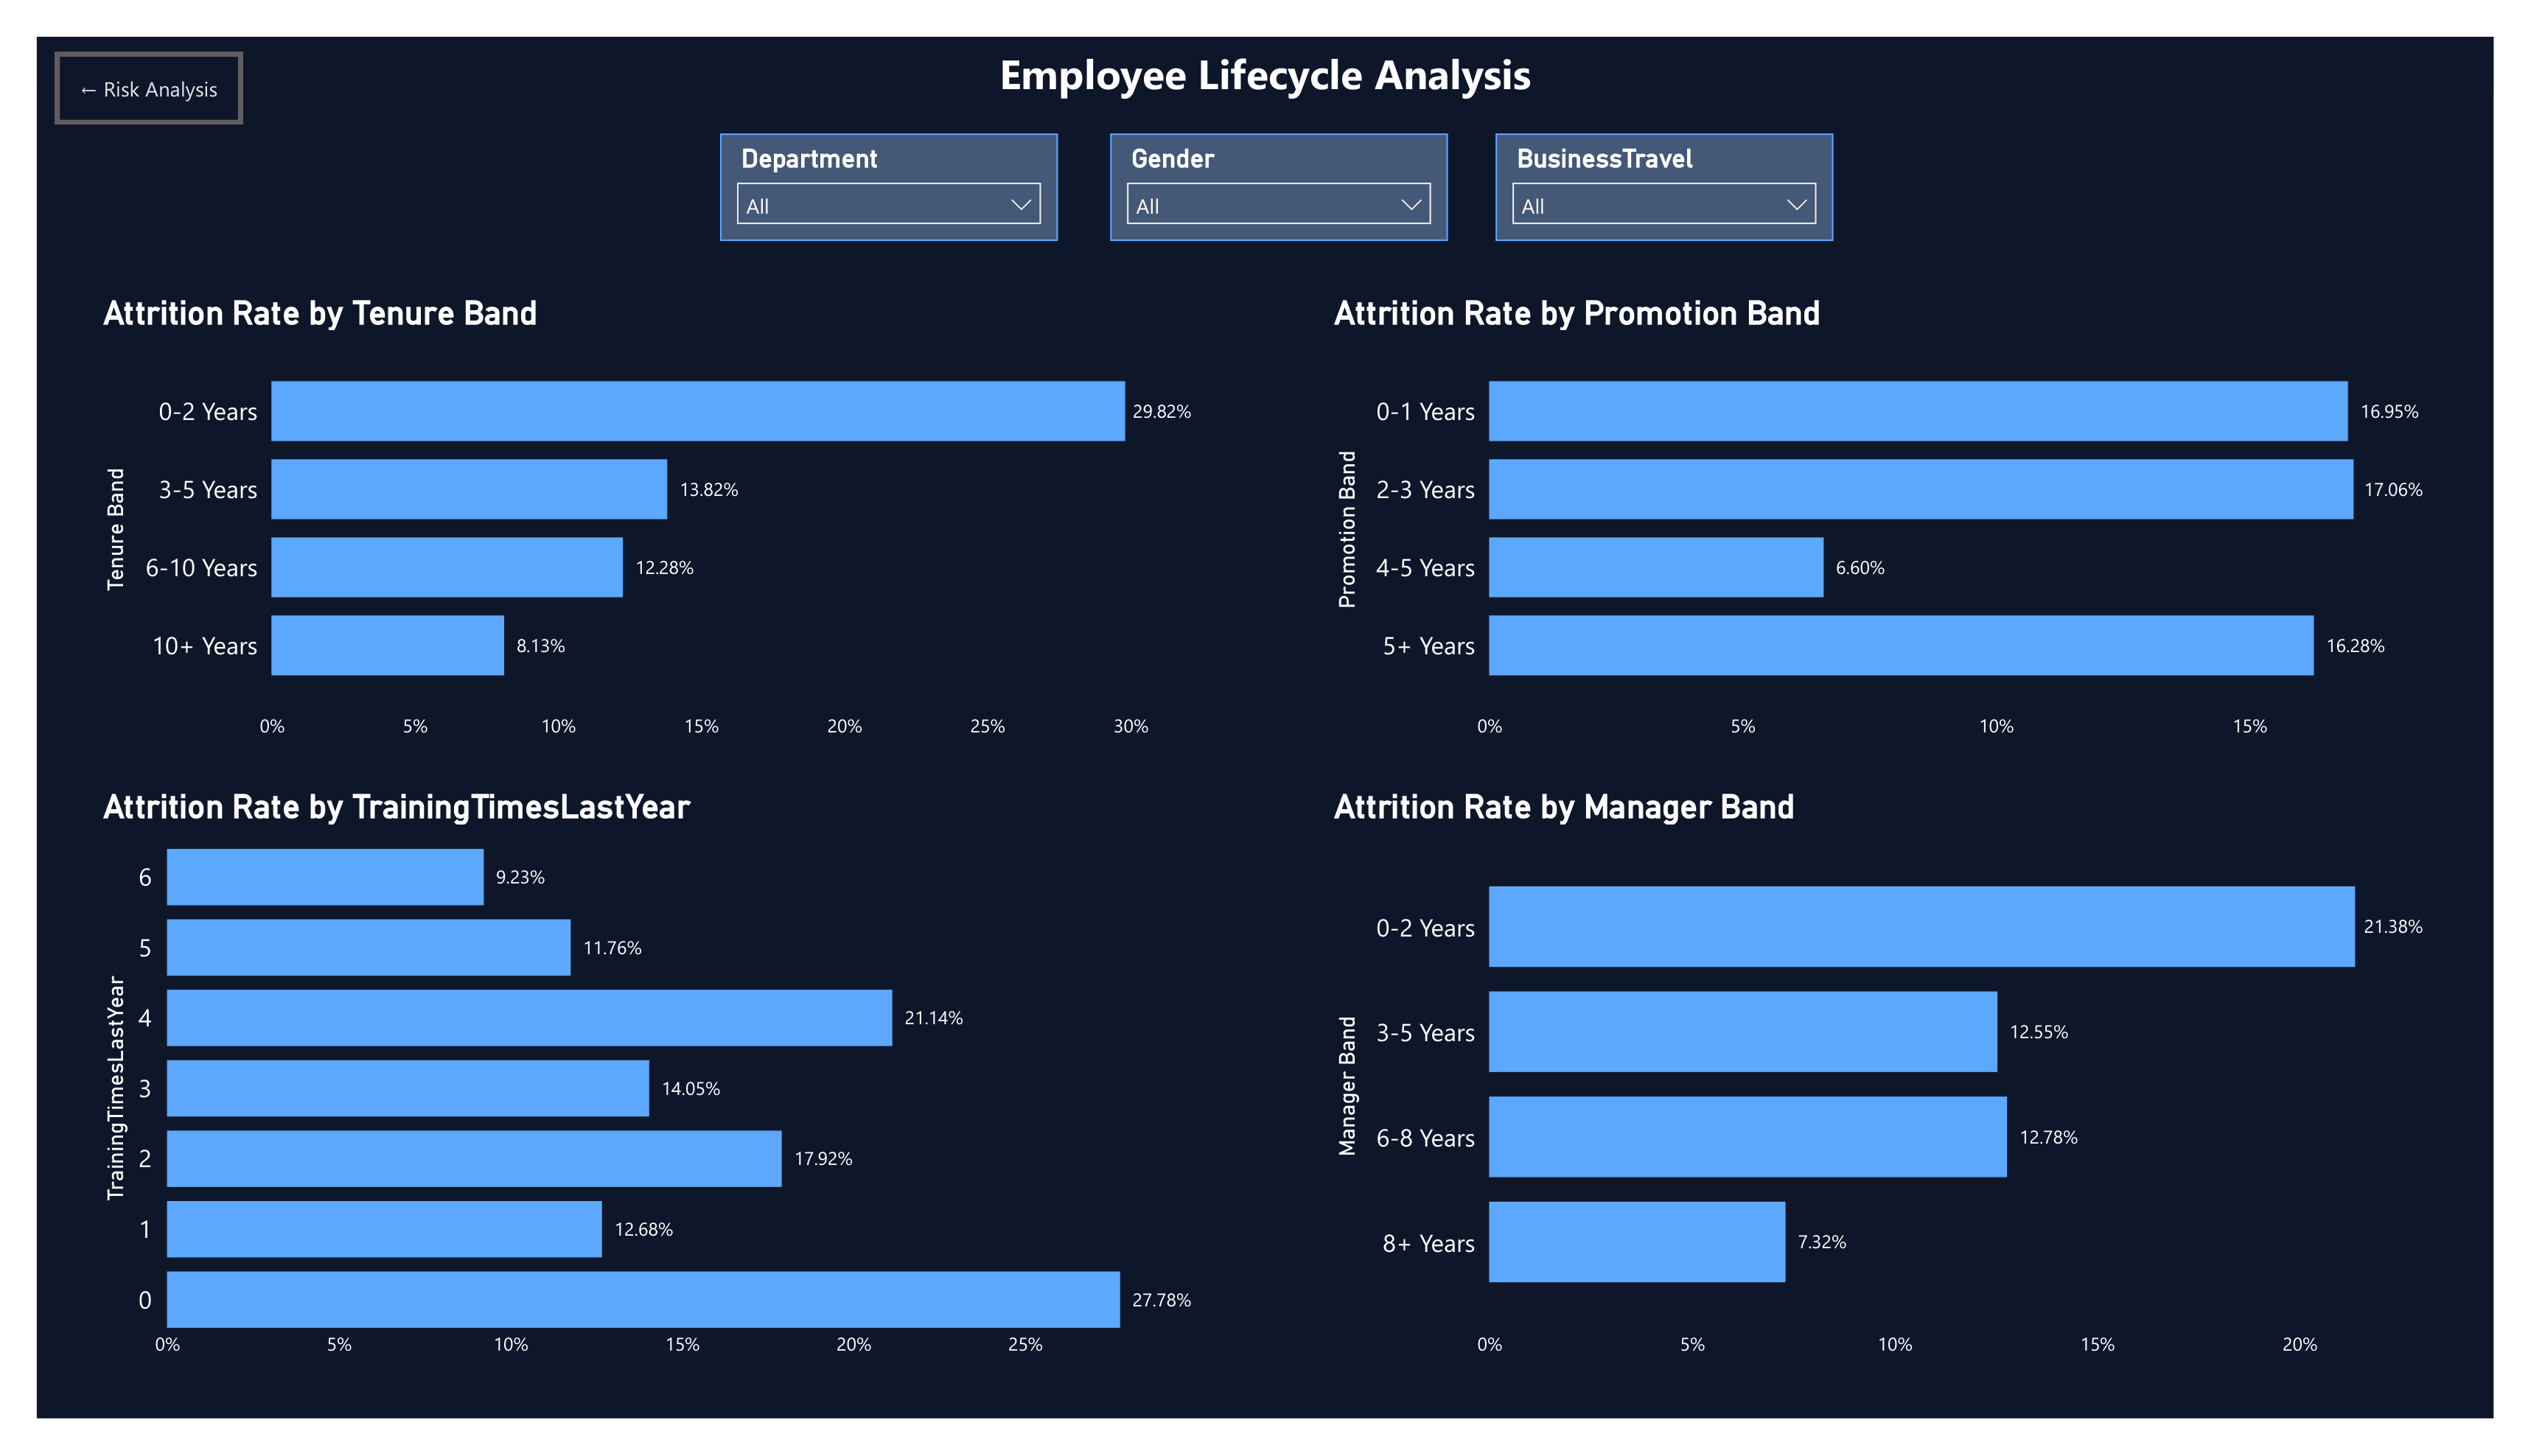

The page's visual inventory and layout, read from the dashboard file:
{"tool":"powerbi","page":{"name":"Employee Lifecycle Analysis","canvas":[1600,900],"ordinal":2},"visuals":[{"type":"clusteredBarChart","fields":{"Y":["employees.Attrition Rate"],"Category":["employees.Tenure Band"]},"box":[38.2,166.6,730.7,300.3],"z":0},{"type":"clusteredBarChart","fields":{"Y":["employees.Attrition Rate"],"Category":["employees.Promotion Band"]},"box":[840.1,166.6,730.7,300.3],"z":1000},{"type":"clusteredBarChart","fields":{"Y":["employees.Attrition Rate"],"Category":["employees.TrainingTimesLastYear"]},"box":[38.2,489.5,730.7,380.1],"z":2000},{"type":"clusteredBarChart","fields":{"Y":["employees.Attrition Rate"],"Category":["employees.Manager Band"]},"box":[840.1,489.5,730.7,380.1],"z":3000},{"type":"textbox","box":[0,0,1600.4,57.3],"z":4000},{"type":"slicer","fields":{"Values":["employees.Department"]},"box":[444.9,62.9,220,70],"z":5000},{"type":"slicer","fields":{"Values":["employees.Gender"]},"box":[698.7,62.6,220,70],"z":6000},{"type":"slicer","fields":{"Values":["employees.BusinessTravel"]},"box":[949.9,62.6,220,70],"z":7000},{"type":"actionButton","box":[12.2,10.4,121.5,46.9],"z":8000}]}

Visuals, with their boxes on the page's 1600x900 design canvas (x1, y1, x2, y2). These are canvas units, not pixel positions in the 2531x1456 screenshot, which may show the page scaled, cropped or inside an application window:
clusteredBarChart - employees.Attrition Rate x employees.Tenure Band: 38,167,769,467
clusteredBarChart - employees.Attrition Rate x employees.Promotion Band: 840,167,1571,467
clusteredBarChart - employees.Attrition Rate x employees.TrainingTimesLastYear: 38,490,769,870
clusteredBarChart - employees.Attrition Rate x employees.Manager Band: 840,490,1571,870
textbox: 0,0,1600,57
slicer - employees.Department: 445,63,665,133
slicer - employees.Gender: 699,63,919,133
slicer - employees.BusinessTravel: 950,63,1170,133
actionButton: 12,10,134,57
